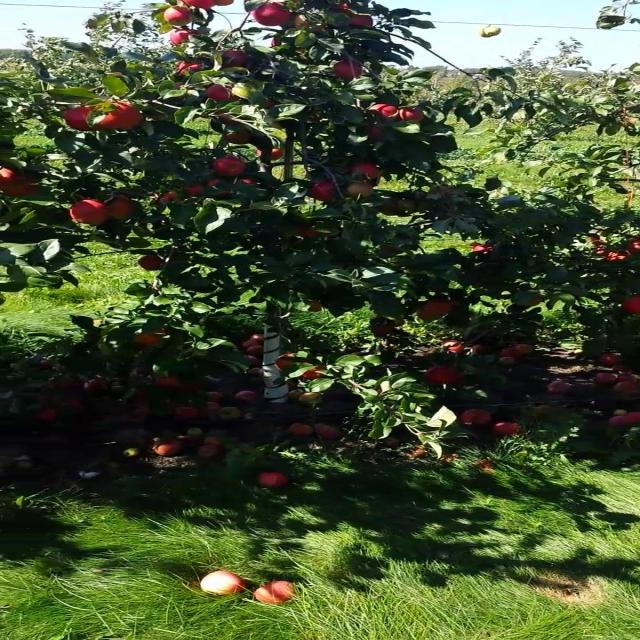apple: (98, 102, 142, 129), (0, 168, 38, 196), (69, 199, 109, 224), (251, 2, 291, 26), (418, 298, 456, 321), (62, 106, 96, 131), (271, 30, 316, 48), (416, 301, 451, 321), (107, 195, 136, 219), (424, 365, 460, 384), (213, 156, 244, 177), (231, 178, 262, 199), (133, 329, 167, 348), (309, 179, 336, 202), (204, 84, 240, 101), (291, 14, 324, 32), (169, 28, 200, 46), (333, 60, 362, 79), (220, 49, 249, 68), (222, 125, 251, 144), (164, 6, 191, 26), (349, 162, 380, 179), (204, 179, 231, 198), (380, 196, 407, 215), (513, 290, 542, 307), (596, 248, 631, 262), (289, 225, 324, 239), (370, 102, 398, 118), (347, 181, 373, 198), (138, 255, 164, 270), (176, 60, 202, 75), (398, 108, 424, 122), (216, 110, 240, 125), (471, 242, 496, 256), (622, 295, 640, 314), (331, 2, 356, 15), (180, 0, 216, 9), (153, 191, 180, 203), (349, 14, 371, 28), (380, 198, 398, 215), (371, 325, 396, 337), (182, 184, 204, 197), (624, 238, 640, 254), (367, 125, 382, 141), (300, 370, 324, 379), (307, 300, 322, 312), (271, 148, 284, 159), (271, 36, 284, 47), (264, 98, 278, 108), (213, 0, 234, 6), (256, 149, 262, 156)
